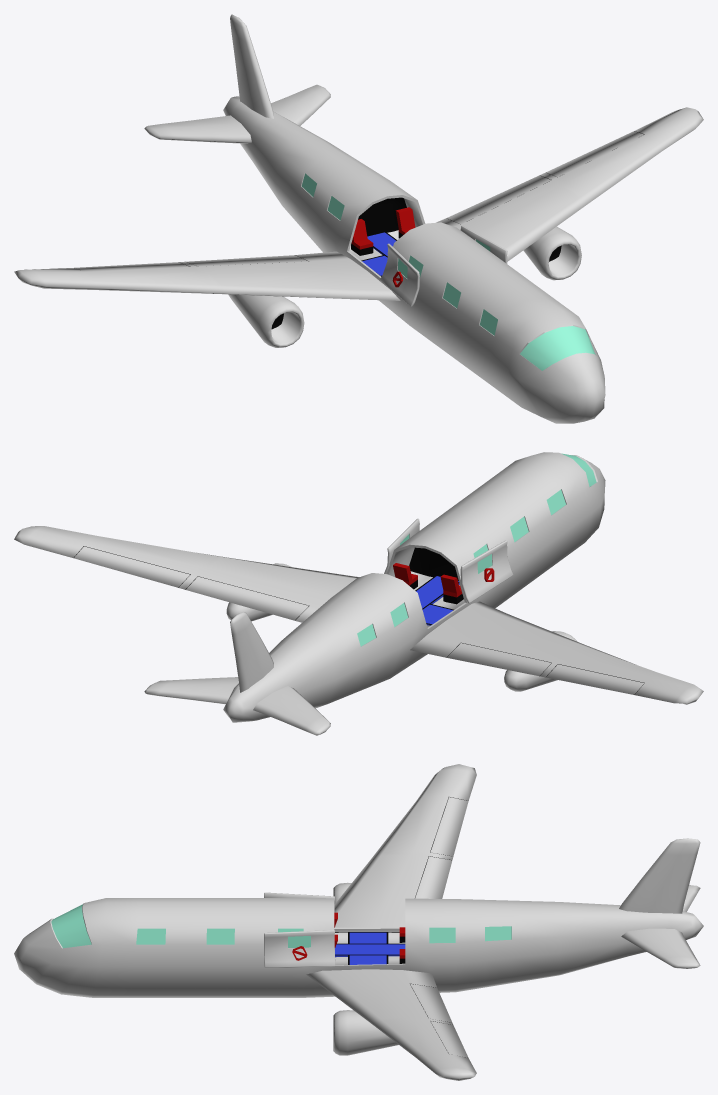
File: Airplane008Roofless 1.FBX
3 views of the same model, one above another, from view 1: azimuth 30°, elevation 25°; view 2: azimuth 150°, elevation 25°; view 3: azimuth 270°, elevation 25° (orthographic). The views are drawn at different scales.
Visible parts, largest first — view 1: PlaneOpen; view 2: PlaneOpen; view 3: PlaneOpen.
Part boxes in pixels (x1,y1,x2,y2): PlaneOpen: [14, 14, 703, 423]; PlaneOpen: [14, 452, 703, 735]; PlaneOpen: [14, 764, 703, 1080].
Size of the model in its own units: 302 by 69.2 by 282.
